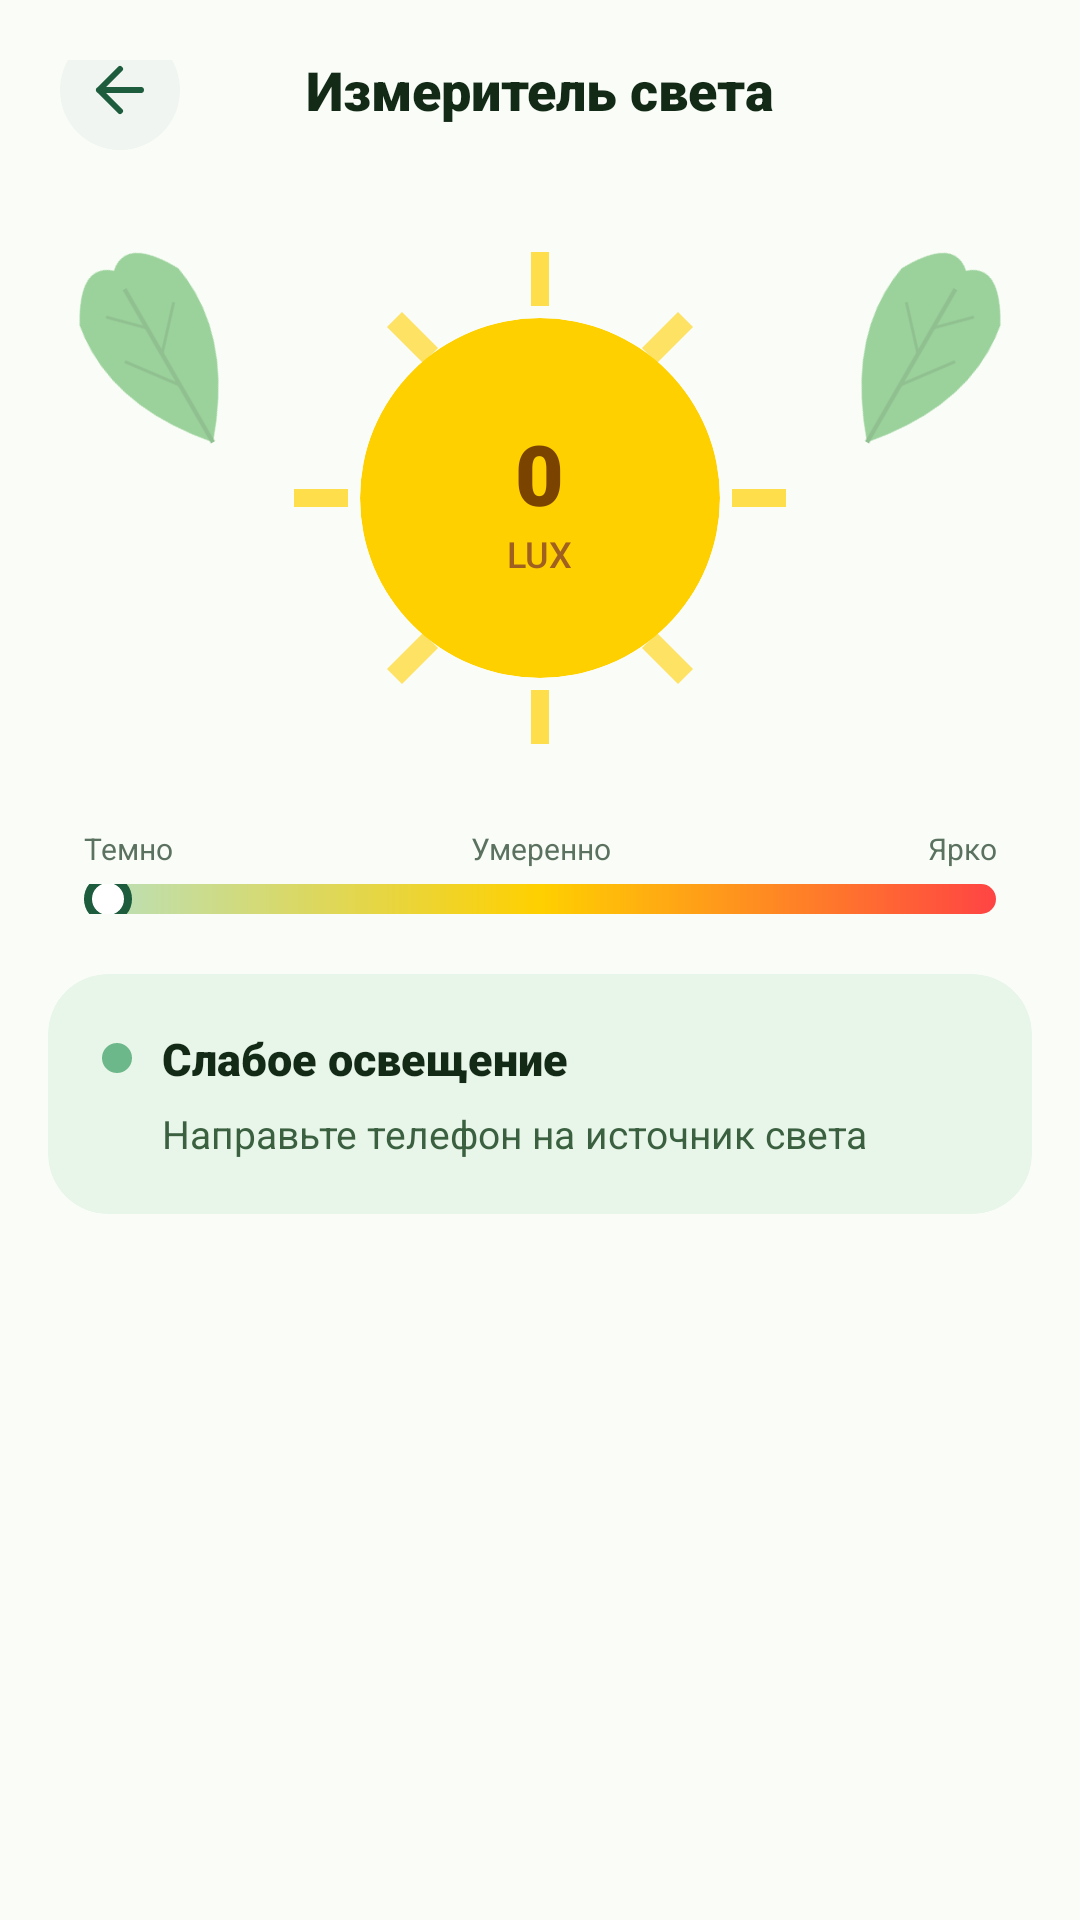

Icons on this 1080*1920 Android screen, each with its box as (x1, y1, x2, y2):
arrow back: (60, 60, 180, 150)
